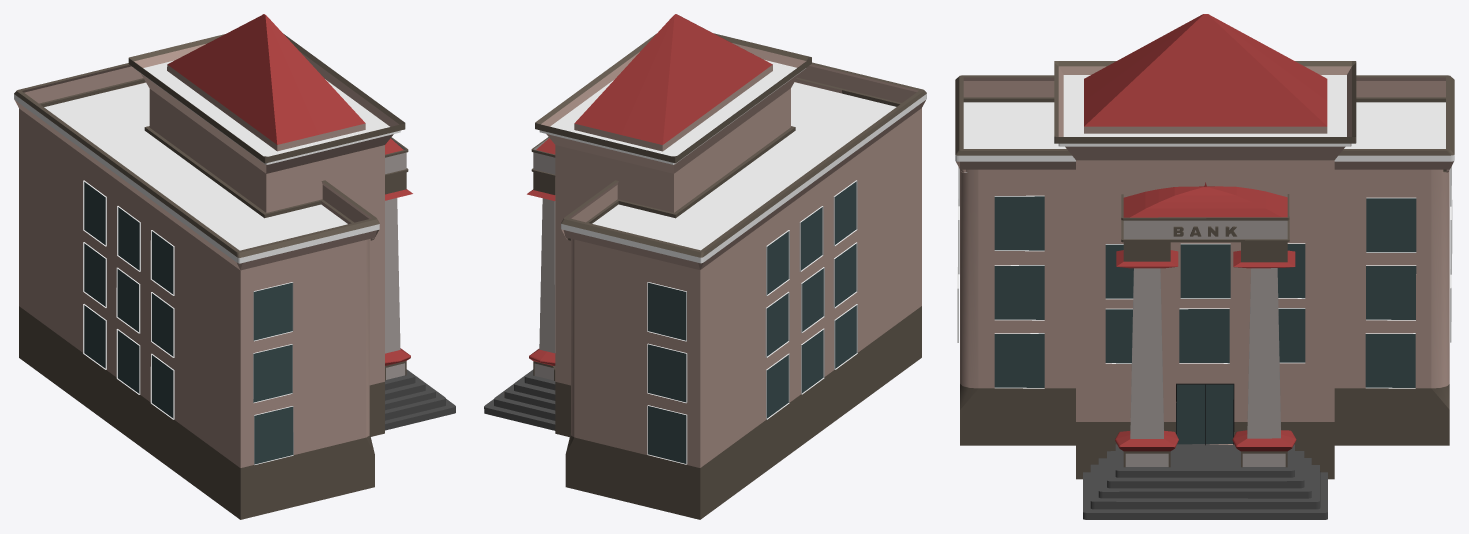
The model's file is Bank Keuangan.fbx.
The picture shows the model from 3 angles, left to right: view 1: azimuth 30°, elevation 25°; view 2: azimuth 150°, elevation 25°; view 3: azimuth 270°, elevation 25°; orthographic projection. The views are drawn at different scales.
Visible parts, largest first — view 1: Cube; view 2: Cube; view 3: Cube.
Boxes of the visible parts, x1,y1,x2,y2 form: Cube: (14, 14, 455, 519); Cube: (484, 14, 926, 519); Cube: (955, 14, 1454, 519).
Size of the model in its own units: 70.28 by 99.55 by 95.13.
